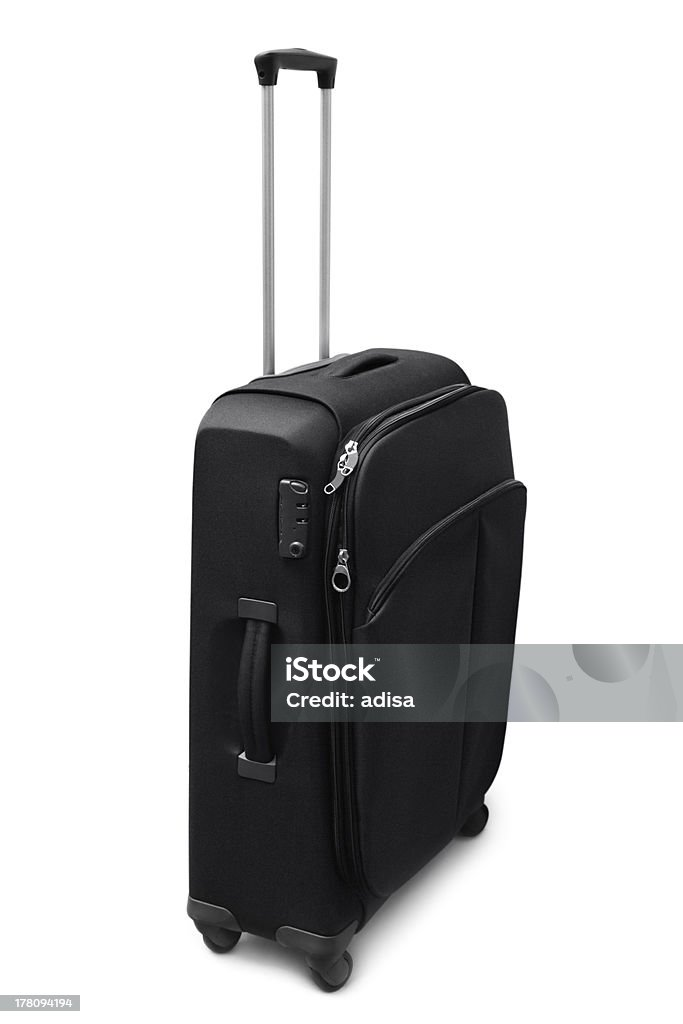Bag: (166, 43, 532, 988)
Handle: (228, 40, 346, 382)
